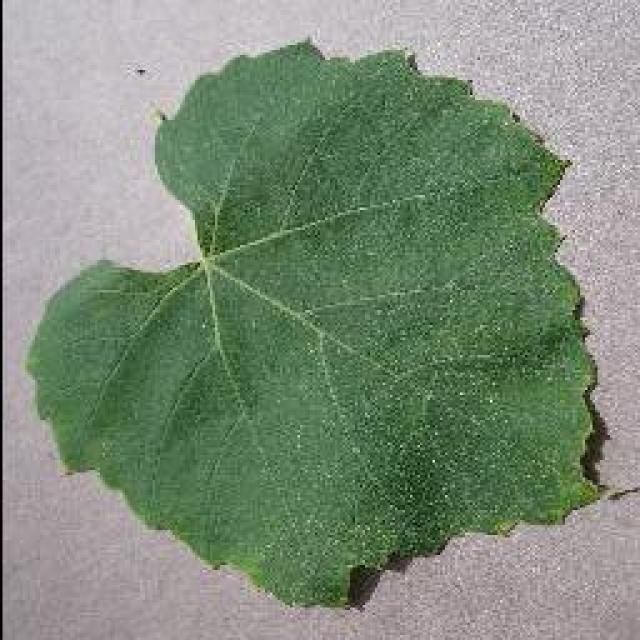Grape___healthy: (28, 42, 592, 602)
